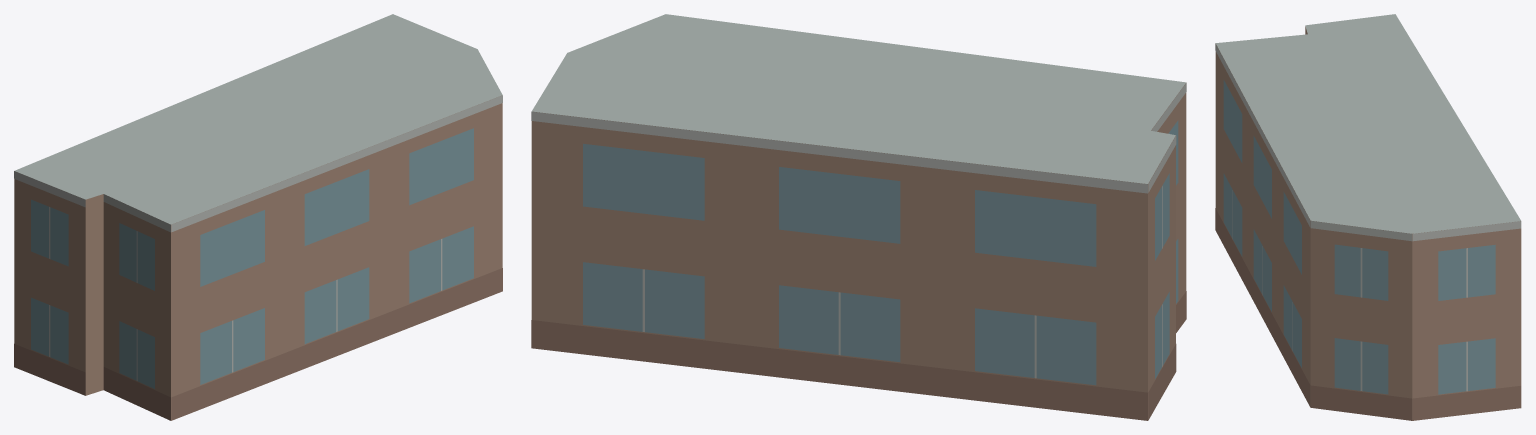
The model's file is survey-upis-32644407.glb.
The picture shows the model from 3 angles, left to right: view 1: azimuth 30°, elevation 25°; view 2: azimuth 150°, elevation 25°; view 3: azimuth 270°, elevation 25°; orthographic projection. The views are drawn at different scales.
Parts seen in each view (by area): view 1: survey-upis-32644407.tmp; view 2: survey-upis-32644407.tmp; view 3: survey-upis-32644407.tmp.
Part boxes in pixels (x1,y1,x2,y2): survey-upis-32644407.tmp: (14,14,502,420); survey-upis-32644407.tmp: (531,14,1186,420); survey-upis-32644407.tmp: (1215,14,1521,420).
Size of the model in its own units: 15.38 by 6.1 by 9.05.
